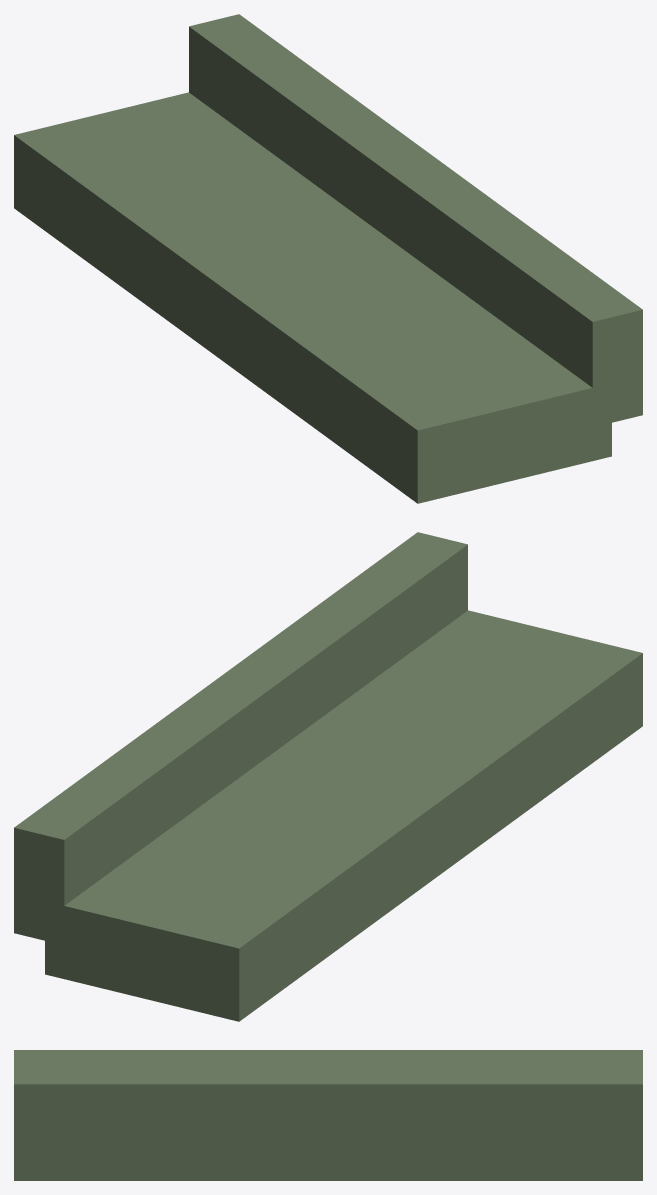
The model's file is Sm_roofTopBasePredio_01.fbx.
3 views of the same model, one above another, from view 1: azimuth 30°, elevation 25°; view 2: azimuth 150°, elevation 25°; view 3: azimuth 270°, elevation 25° (orthographic). The views are drawn at different scales.
Parts seen in each view (by area): view 1: Sm_roofTopBasePredio_01; view 2: Sm_roofTopBasePredio_01; view 3: Sm_roofTopBasePredio_01.
Part boxes in pixels (left/top/right/bottom): Sm_roofTopBasePredio_01: left=14, top=14, right=642, bottom=503; Sm_roofTopBasePredio_01: left=14, top=532, right=642, bottom=1021; Sm_roofTopBasePredio_01: left=14, top=1050, right=642, bottom=1180.
Bounding box in the file's own units: 1.29 × 0.7609 × 4.
